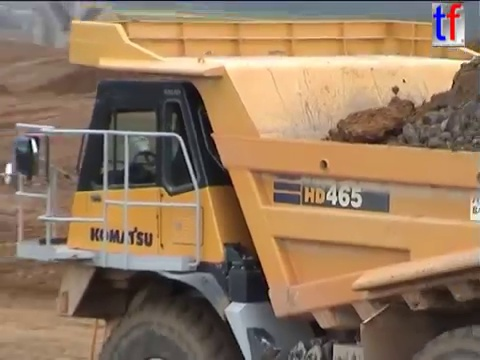truck: (1, 8, 480, 360)
